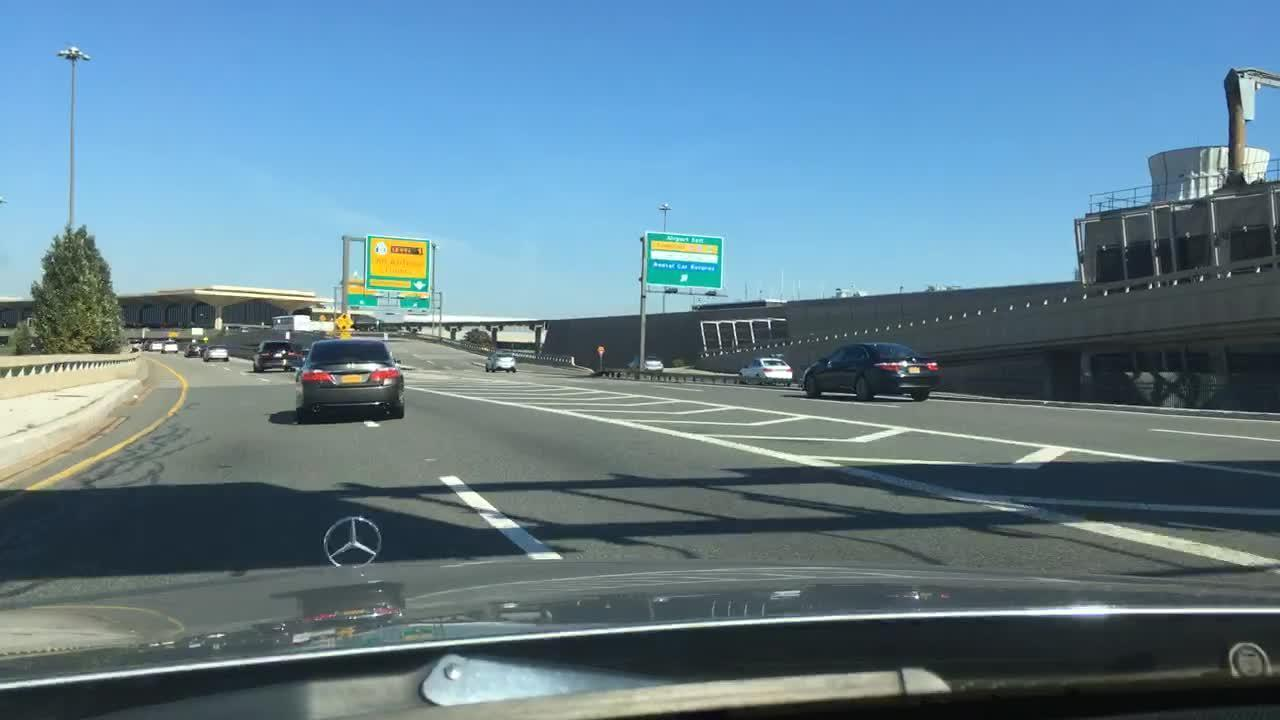Mercedes: (313, 510, 388, 571)
